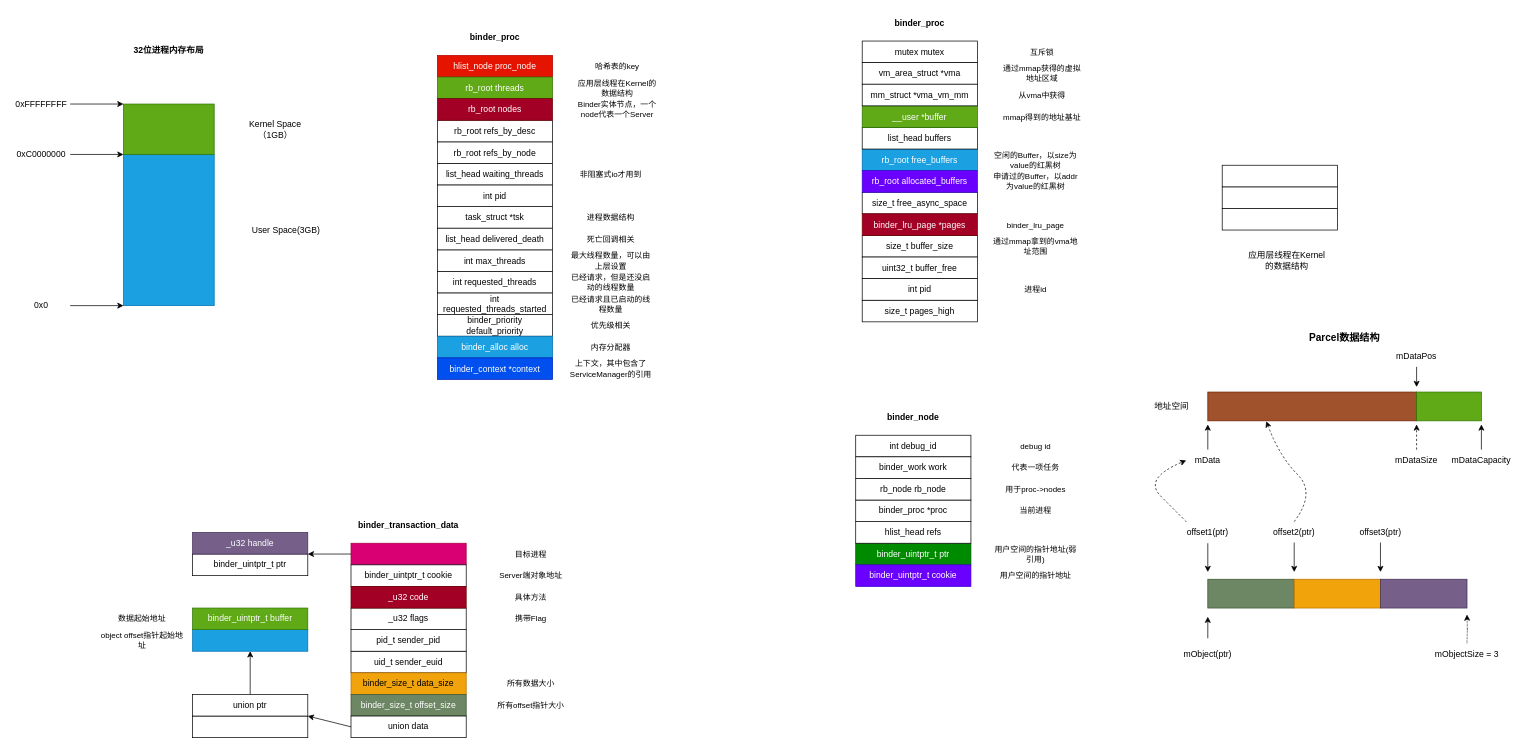
Some shapes in this 1523 by 750 pixel diagram are drawn without their labels. Each missing label, with the centre of its shape:
"__u8 buf[8]" belongs at (250,726).
"binder_uintptr_t offsets" belongs at (250,640).
"union target" belongs at (408,554).
